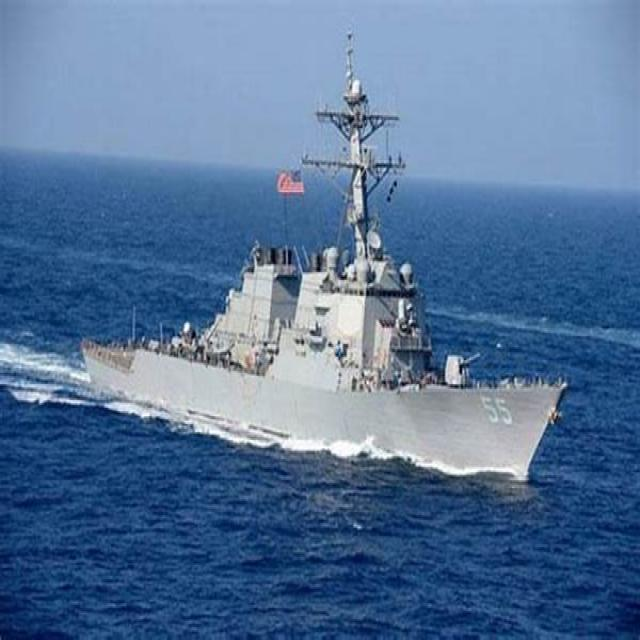navalvessels: (86, 67, 570, 492)
